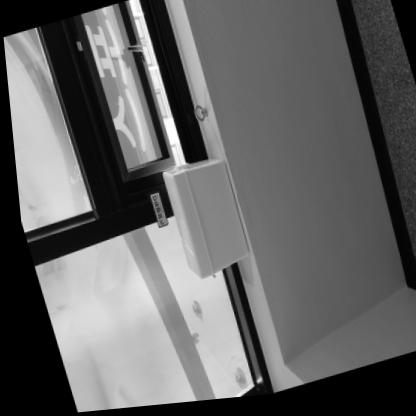DDL: (156, 157, 249, 285)
